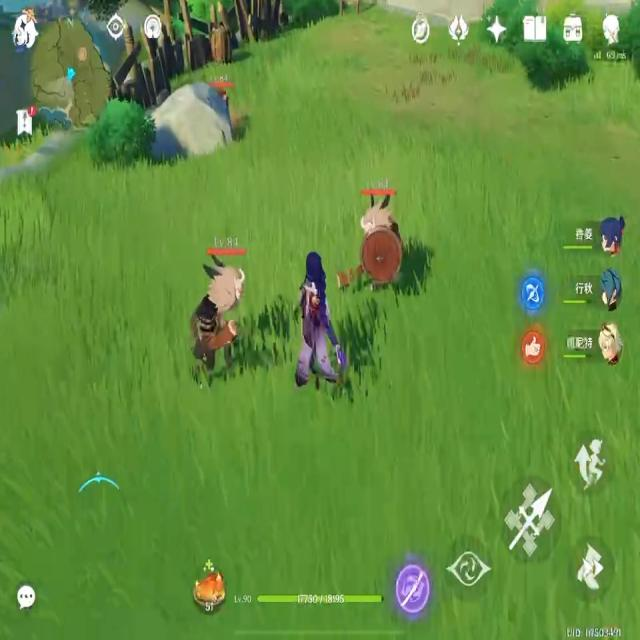genshin-hilichurls: (190, 245, 246, 386), (352, 187, 407, 298)
